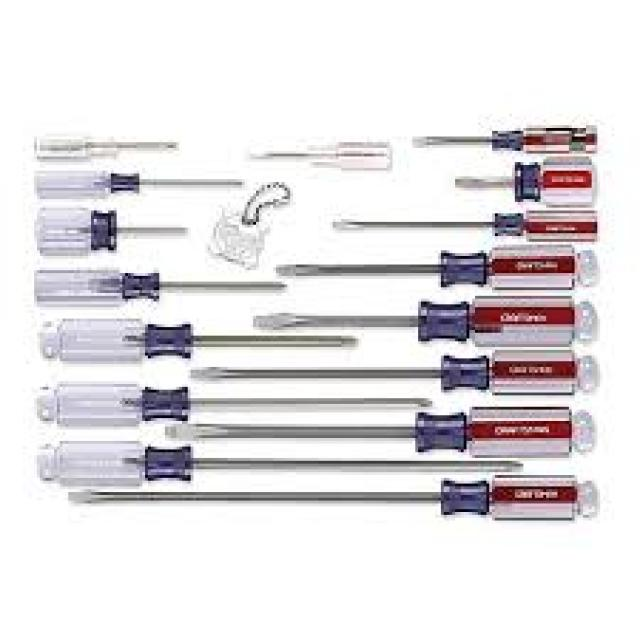screw driver: (53, 454, 629, 554), (248, 293, 638, 362), (31, 371, 472, 428), (338, 199, 640, 248), (32, 192, 213, 269), (413, 121, 639, 171), (444, 155, 615, 213), (233, 124, 408, 180), (17, 122, 192, 166)
